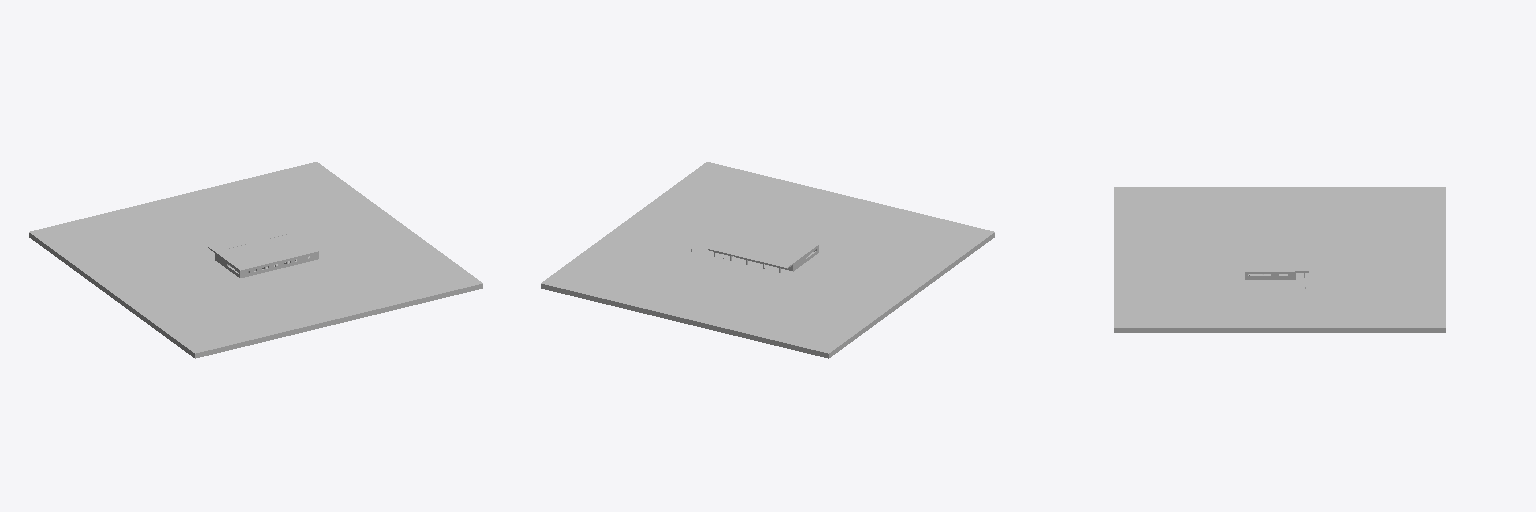
File: dsi.obj
The picture shows the model from 3 angles: view 1: azimuth 30°, elevation 25°; view 2: azimuth 150°, elevation 25°; view 3: azimuth 270°, elevation 25°; orthographic projection.
Parts seen in each view (by area): view 1: Box001_Untitled.031, 3dSolid.094_Untitled.815, 3dSolid.050_Untitled.793, 3dSolid.012_Untitled.188; view 2: Box001_Untitled.031, 3dSolid.094_Untitled.815, 3dSolid.012_Untitled.188; view 3: Box001_Untitled.031, 3dSolid.094_Untitled.815, 3dSolid.012_Untitled.188.
Part boxes in pixels (bbox=[...]): Box001_Untitled.031: bbox=[29, 162, 482, 358]; 3dSolid.094_Untitled.815: bbox=[215, 232, 318, 271]; 3dSolid.050_Untitled.793: bbox=[215, 253, 318, 277]; 3dSolid.012_Untitled.188: bbox=[208, 228, 292, 252]; Box001_Untitled.031: bbox=[541, 162, 994, 358]; 3dSolid.094_Untitled.815: bbox=[715, 225, 818, 264]; 3dSolid.012_Untitled.188: bbox=[708, 244, 792, 268]; Box001_Untitled.031: bbox=[1114, 187, 1445, 332]; 3dSolid.094_Untitled.815: bbox=[1245, 233, 1295, 272]; 3dSolid.012_Untitled.188: bbox=[1295, 233, 1308, 272].
Bounding box in the file's own units: 294 × 13.04 × 294.